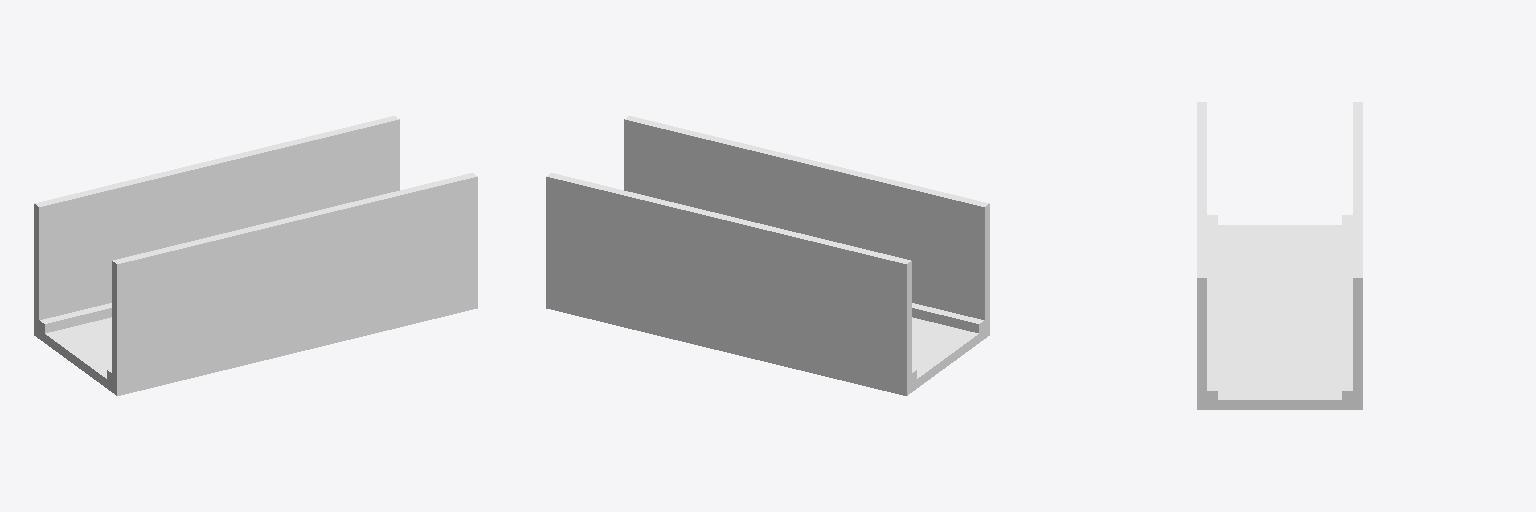
Rendered from way.vox.obj.
3 views of the same model, side by side, from view 1: azimuth 30°, elevation 25°; view 2: azimuth 150°, elevation 25°; view 3: azimuth 270°, elevation 25° (orthographic).
Parts seen in each view (by area): view 1: object 1; view 2: object 1; view 3: object 1.
Part boxes in pixels (x1,y1,x2,y2): object 1: (34, 116, 477, 395); object 1: (546, 116, 989, 395); object 1: (1197, 102, 1362, 409).
Size of the model in its own units: 4 by 1.4 by 1.6.